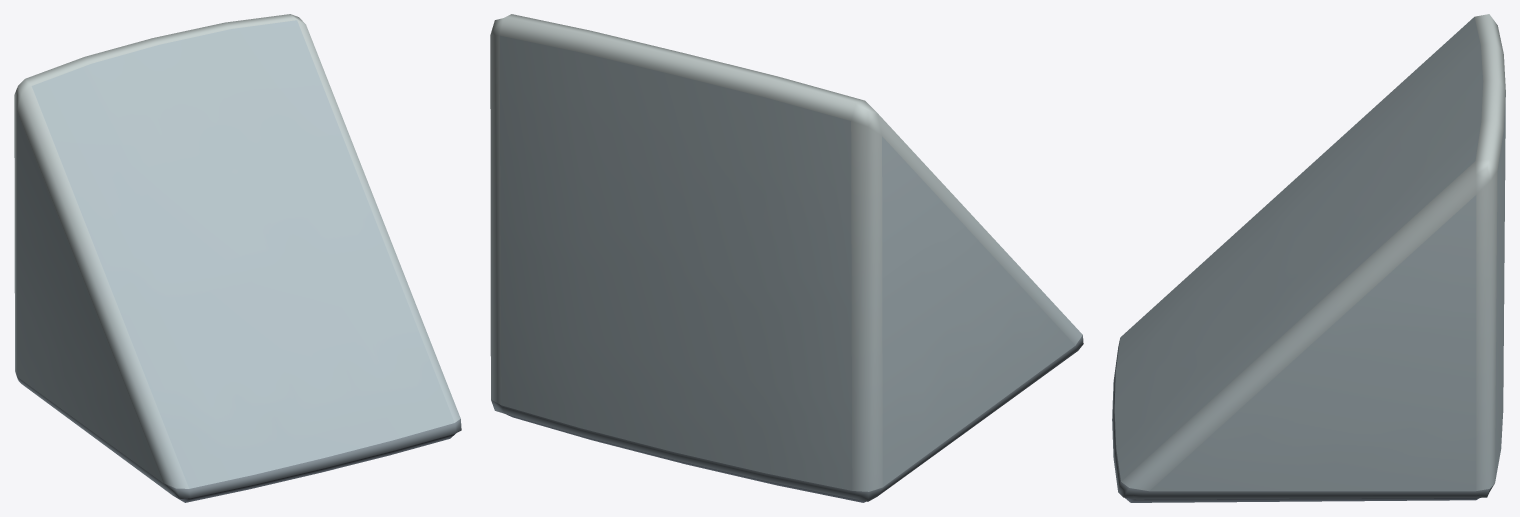
Rendered from Quartz_Slope_Straight.fbx.
3 renders of one model, left to right at view 1: azimuth 30°, elevation 25°; view 2: azimuth 150°, elevation 25°; view 3: azimuth 270°, elevation 25°, orthographic. The views are drawn at different scales.
Parts seen in each view (by area): view 1: Quartz_Slope_Straight_LOD0; view 2: Quartz_Slope_Straight_LOD0; view 3: Quartz_Slope_Straight_LOD0.
Part boxes in pixels (x1,y1,x2,y2): Quartz_Slope_Straight_LOD0: (14,14,461,502); Quartz_Slope_Straight_LOD0: (490,14,1083,502); Quartz_Slope_Straight_LOD0: (1112,14,1505,502).
Size of what is drawn, in the model's own units: 1.04 by 1.06 by 1.08.
